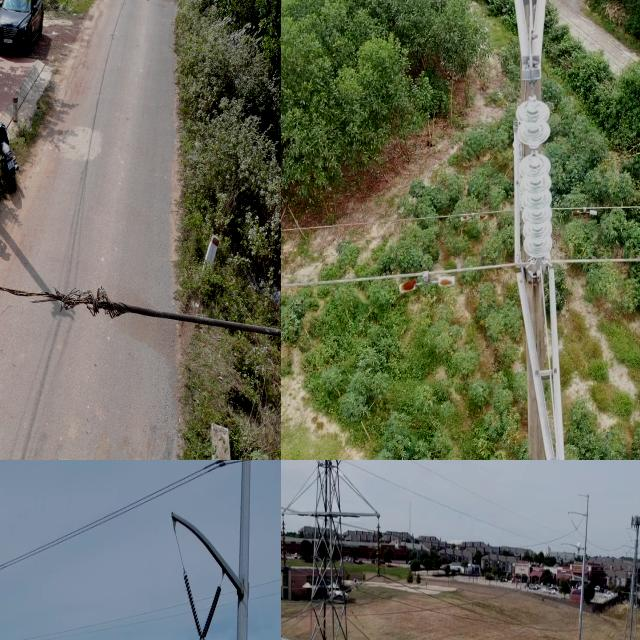杆塔: (281, 460, 386, 640), (619, 499, 640, 640)
正常电缆: (281, 256, 509, 292), (281, 202, 510, 237), (566, 251, 640, 273)
正常绝缘子: (513, 82, 558, 278), (178, 560, 206, 640), (196, 572, 226, 640), (370, 515, 390, 585), (281, 509, 298, 584)
电缆破损: (0, 249, 142, 329)
绝缘子破损: (528, 145, 540, 158)
